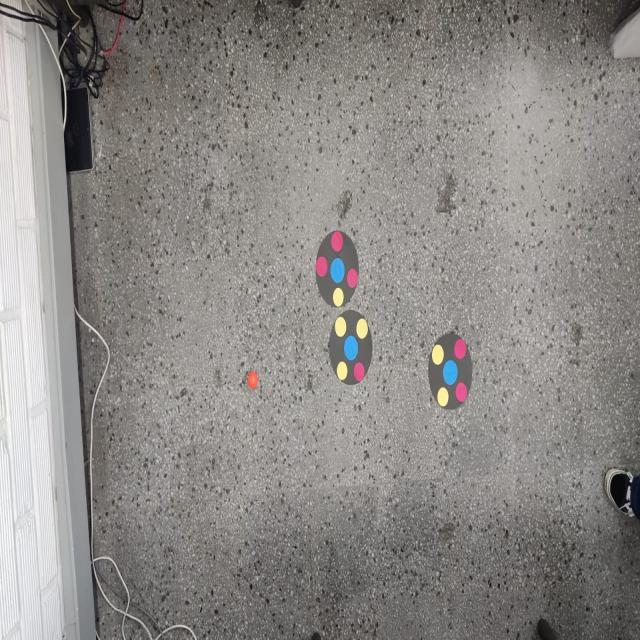0: (316, 230, 360, 308)
1: (428, 331, 473, 411)
2: (326, 310, 374, 386)
Ball: (247, 372, 259, 389)
